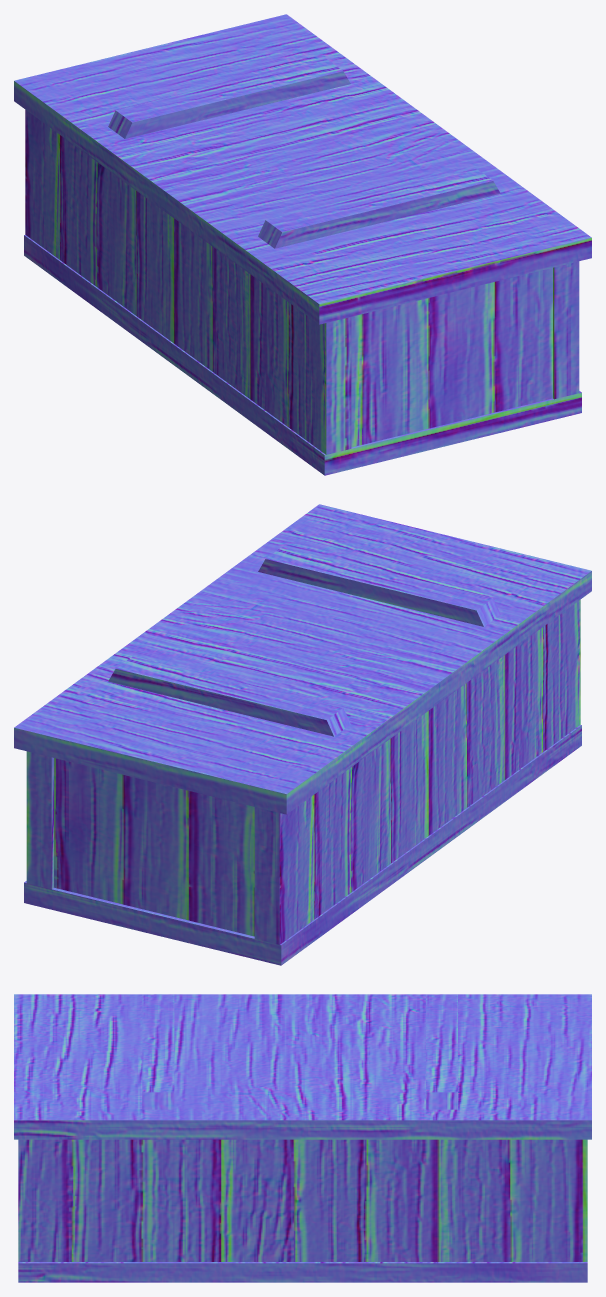
The model's file is CrCrateA2.fbx.
The picture shows the model from 3 angles, top to bottom: view 1: azimuth 30°, elevation 25°; view 2: azimuth 150°, elevation 25°; view 3: azimuth 270°, elevation 25°; orthographic projection. The views are drawn at different scales.
Parts seen in each view (by area): view 1: CrCrateA2Cap, CrCrateA2; view 2: CrCrateA2Cap, CrCrateA2; view 3: CrCrateA2Cap, CrCrateA2.
Part boxes in pixels (x1,y1,x2,y2): CrCrateA2Cap: (14,14,591,324); CrCrateA2: (24,110,581,475); CrCrateA2Cap: (14,504,591,814); CrCrateA2: (24,600,581,965); CrCrateA2Cap: (14,994,591,1139); CrCrateA2: (18,1139,587,1282).
Size of the model in its own units: 52.33 by 34.81 by 102.
